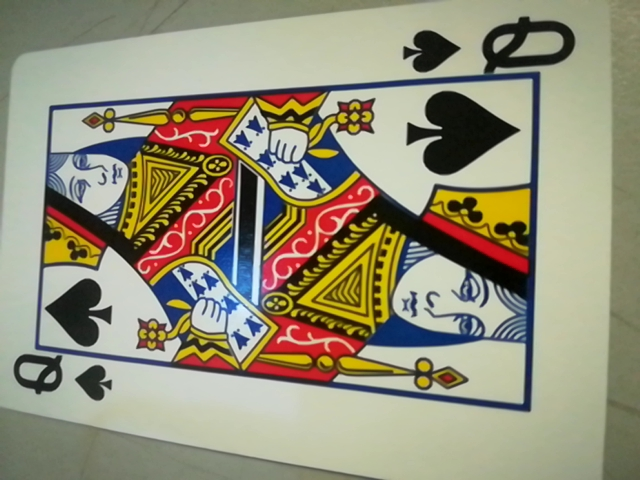ht q: (399, 14, 587, 77)
